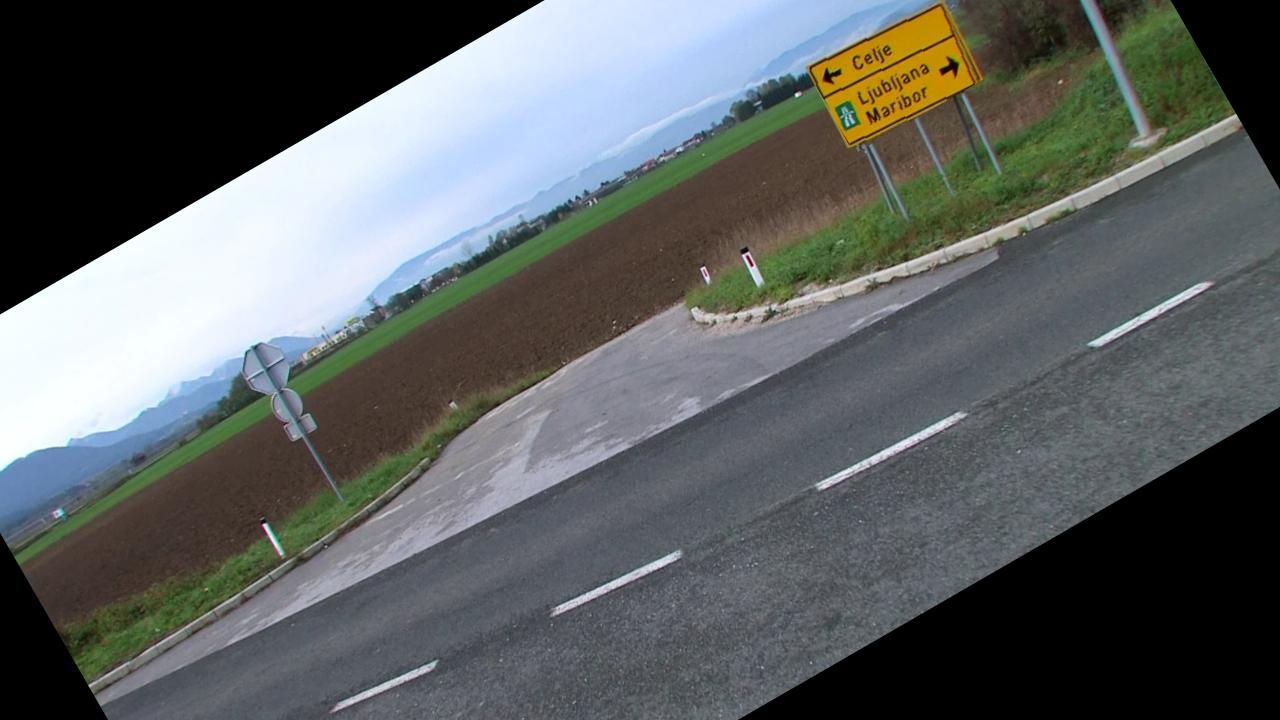Multi-inform: (804, 0, 987, 153)
